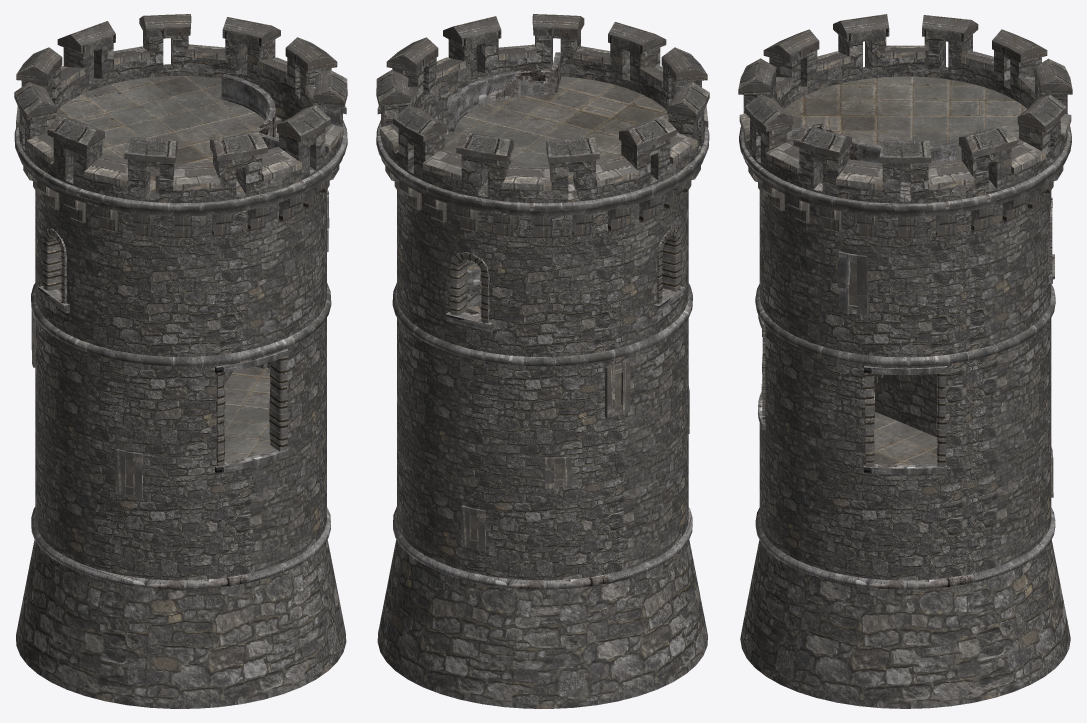
Rendered from MC_Castle_Tower_A_15m.fbx.
The picture shows the model from 3 angles, left to right: view 1: azimuth 30°, elevation 25°; view 2: azimuth 150°, elevation 25°; view 3: azimuth 270°, elevation 25°; orthographic projection.
Parts seen in each view (by area): view 1: MC_Castle_Tower_A_15m_LOD0; view 2: MC_Castle_Tower_A_15m_LOD0; view 3: MC_Castle_Tower_A_15m_LOD0.
Part boxes in pixels (box(x1,y1,x2,y2)): MC_Castle_Tower_A_15m_LOD0: box(14, 14, 347, 708); MC_Castle_Tower_A_15m_LOD0: box(376, 14, 709, 708); MC_Castle_Tower_A_15m_LOD0: box(738, 14, 1072, 708).
Size of what is drawn, in the model's own units: 914 by 1698 by 916.
